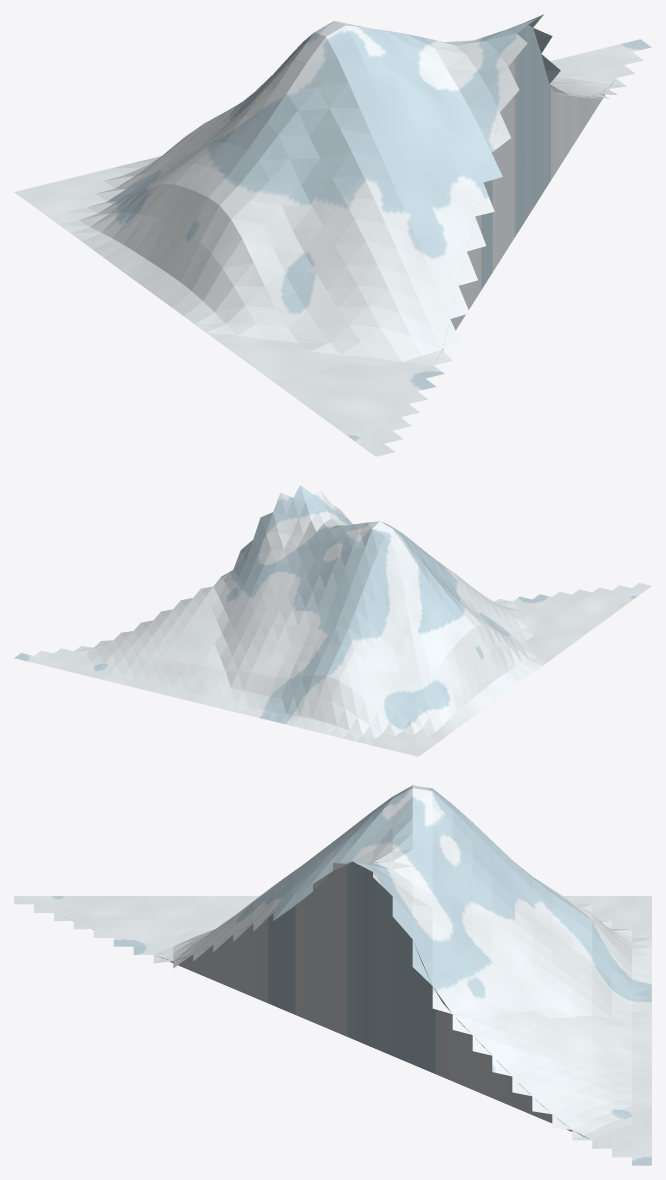
The model's file is Snow_Mountains_02_SW.obj.
The picture shows the model from 3 angles, top to bottom: view 1: azimuth 30°, elevation 25°; view 2: azimuth 150°, elevation 25°; view 3: azimuth 270°, elevation 25°; orthographic projection. The views are drawn at different scales.
Size of the model in its own units: 10 by 3.33 by 10.
1 material, 1 textured.
